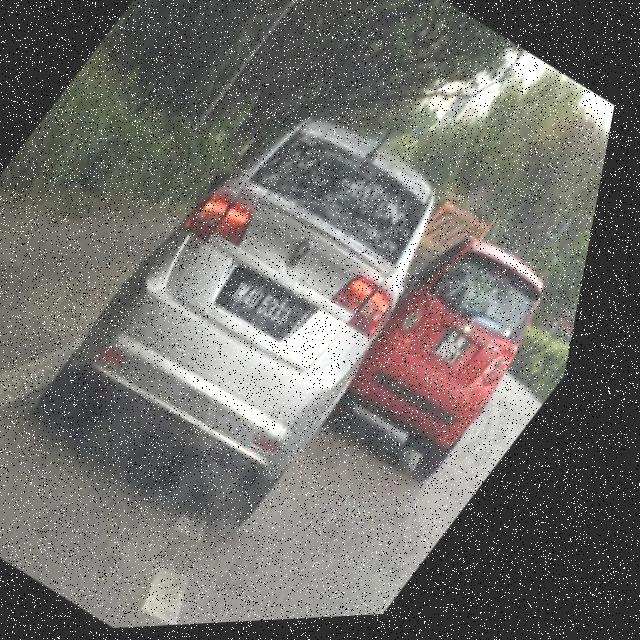license_plate: (214, 258, 335, 352)
